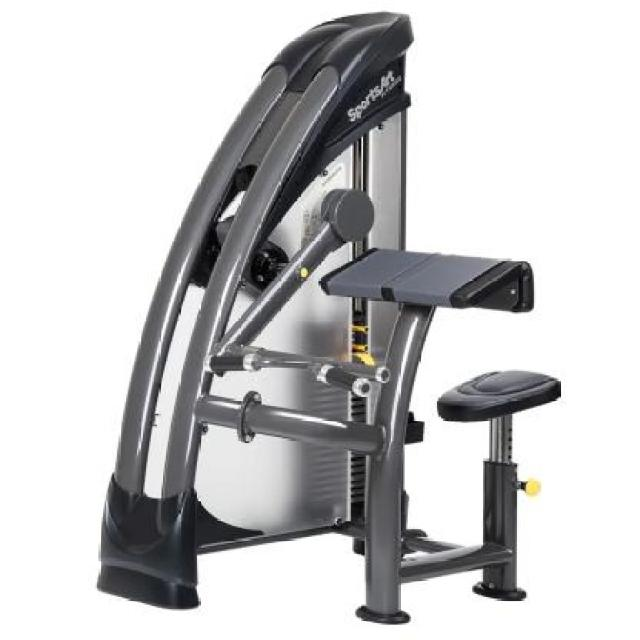arm curl machine: (97, 12, 561, 626)
